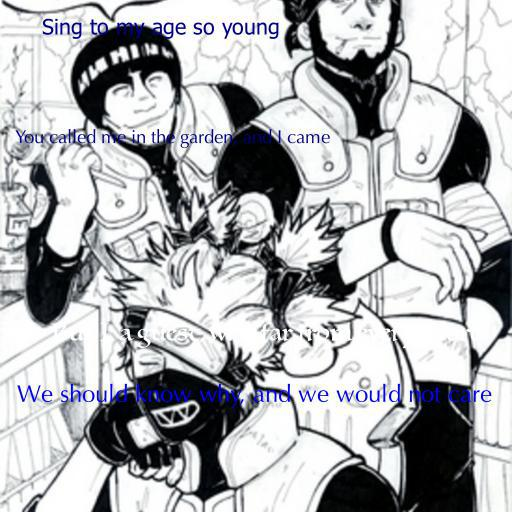Luminari: (51, 322, 481, 349)
Optima: (16, 383, 492, 409), (14, 129, 330, 149)
Tahoma: (42, 18, 280, 39)
